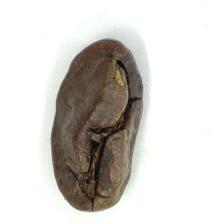NG: (66, 51, 131, 201)
